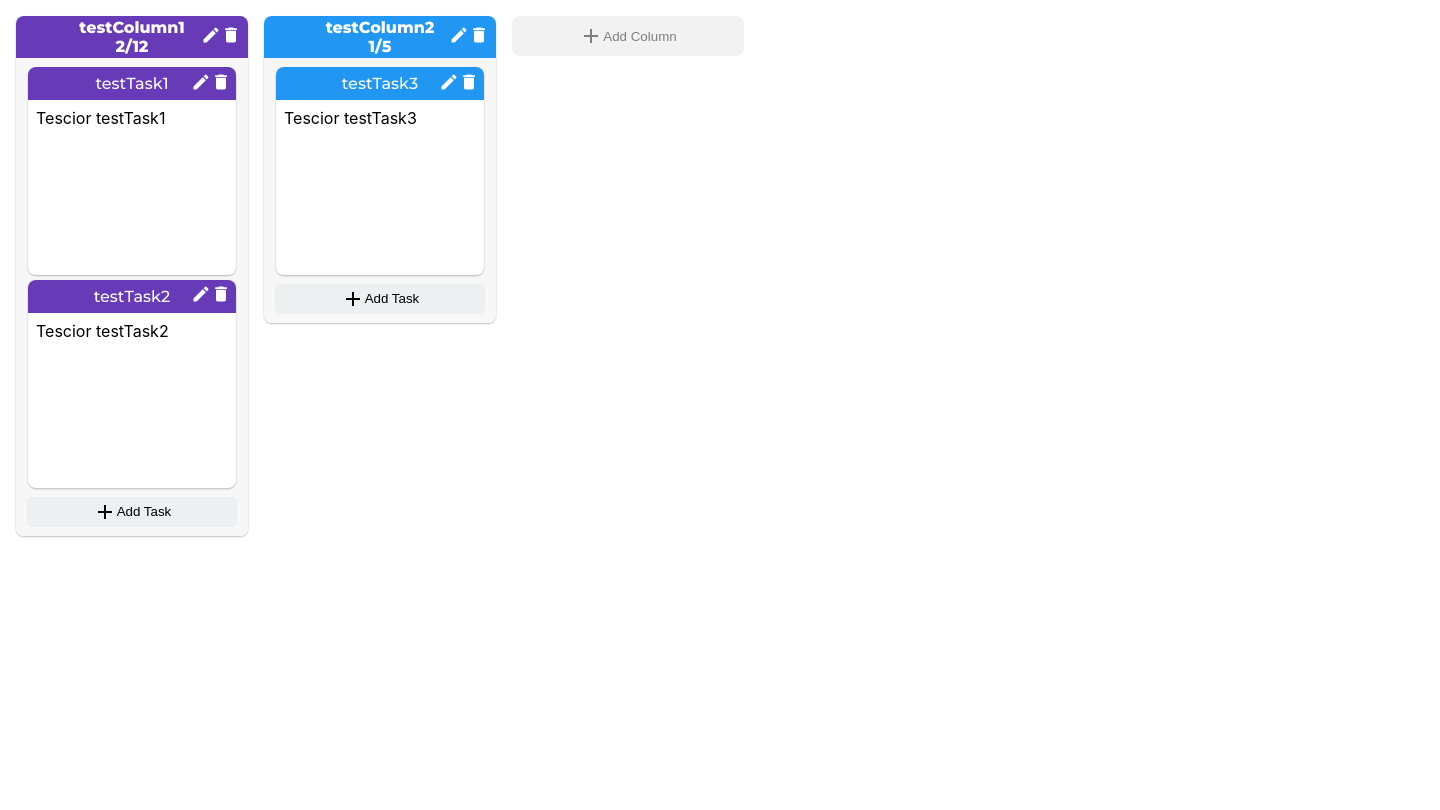
Kanban › should testColumn1 add task button open open a modal
Click the 2nd button "Add Task". click: (132, 512)
box: top-left (28, 497), bottom-right (236, 527)
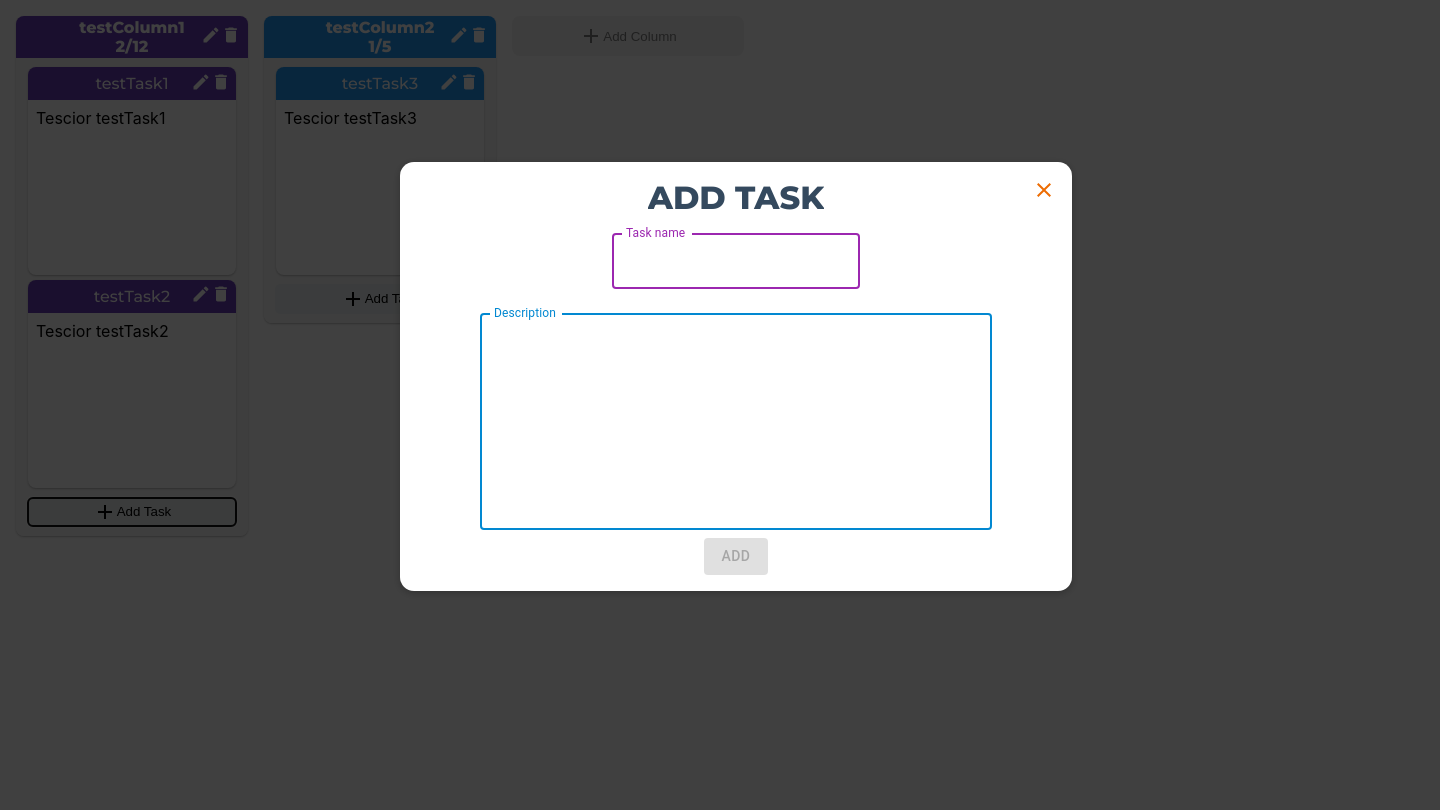
Now the form with test id "manage-task-modal" is shown, box top-left (416, 178), bottom-right (1056, 574)
